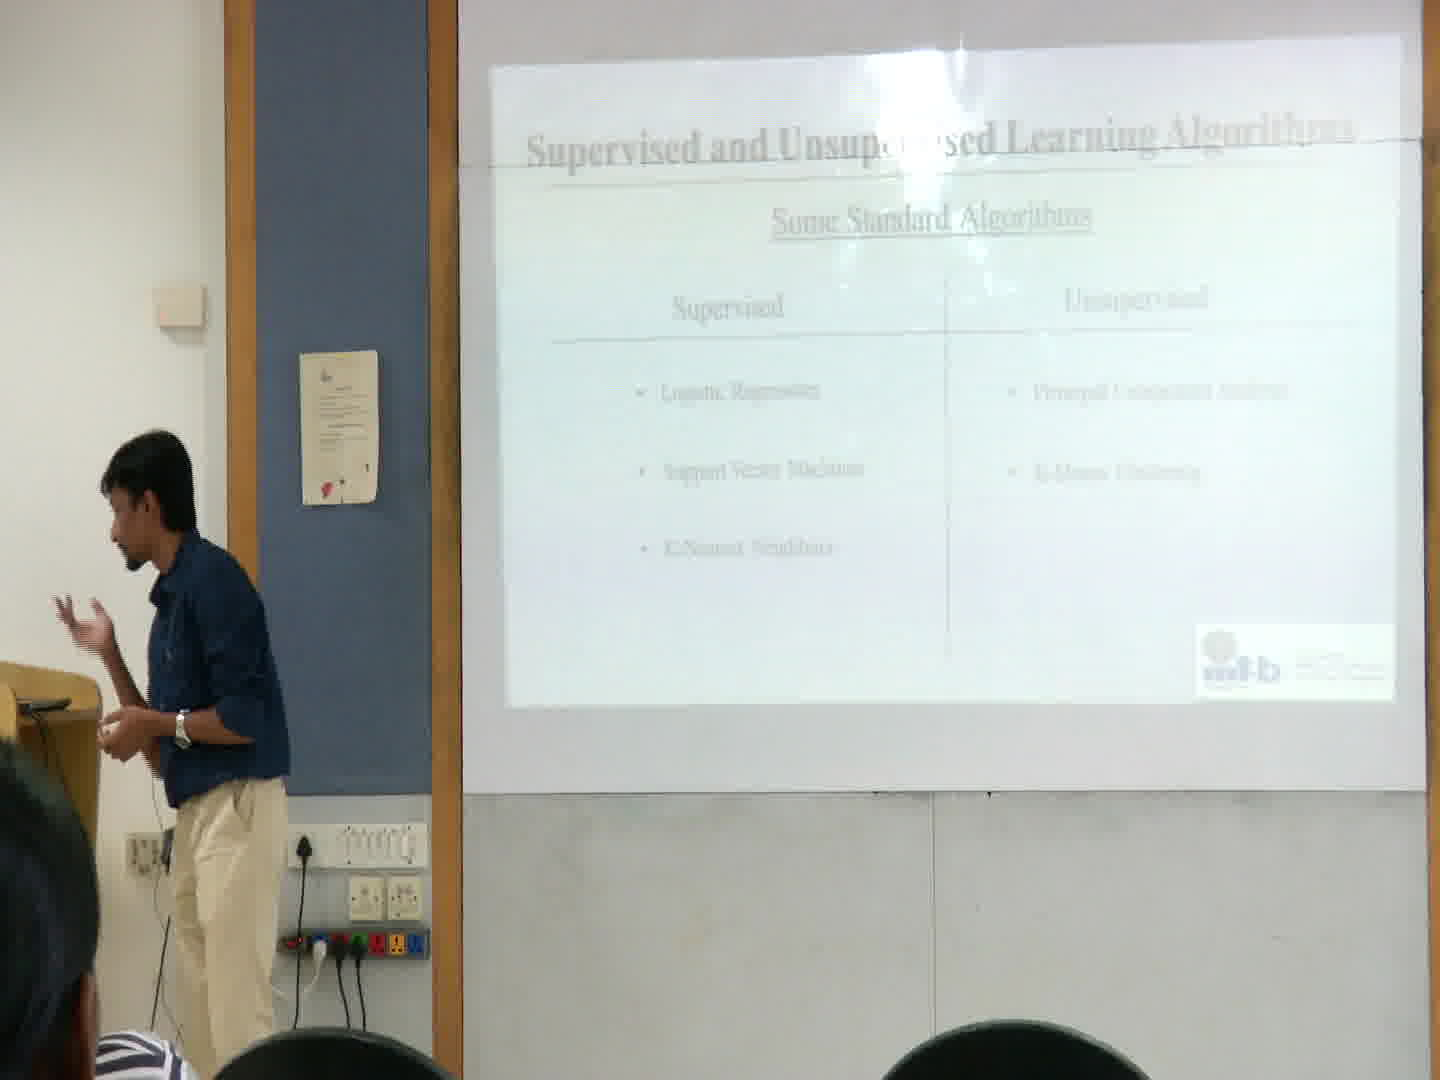slide: (490, 37, 1399, 708)
